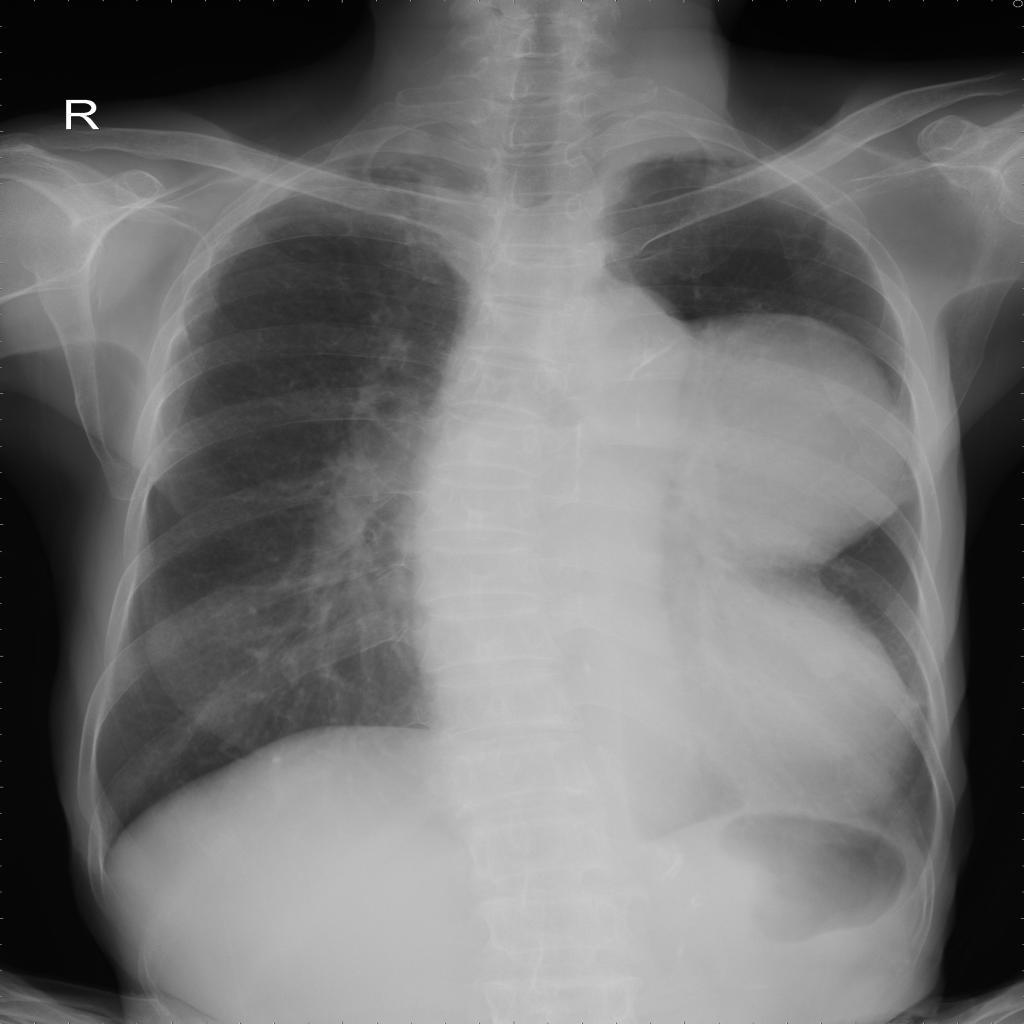Nodule: (676, 313, 916, 566)
